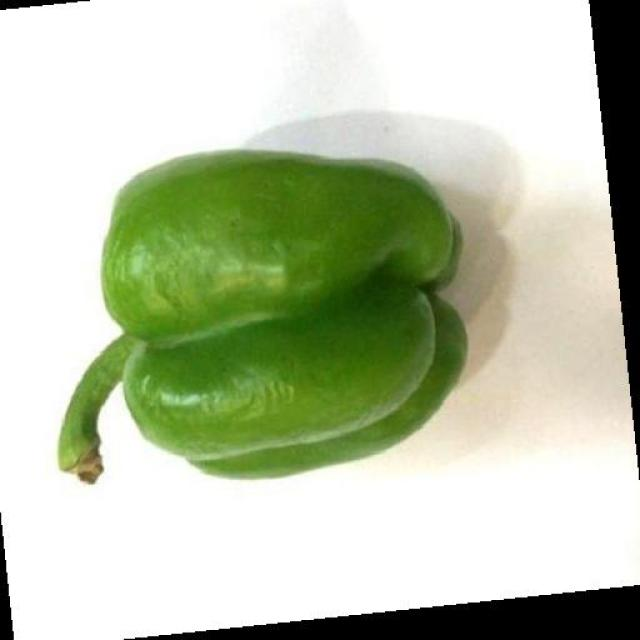Fresh_Capsicum: (109, 151, 443, 474)
